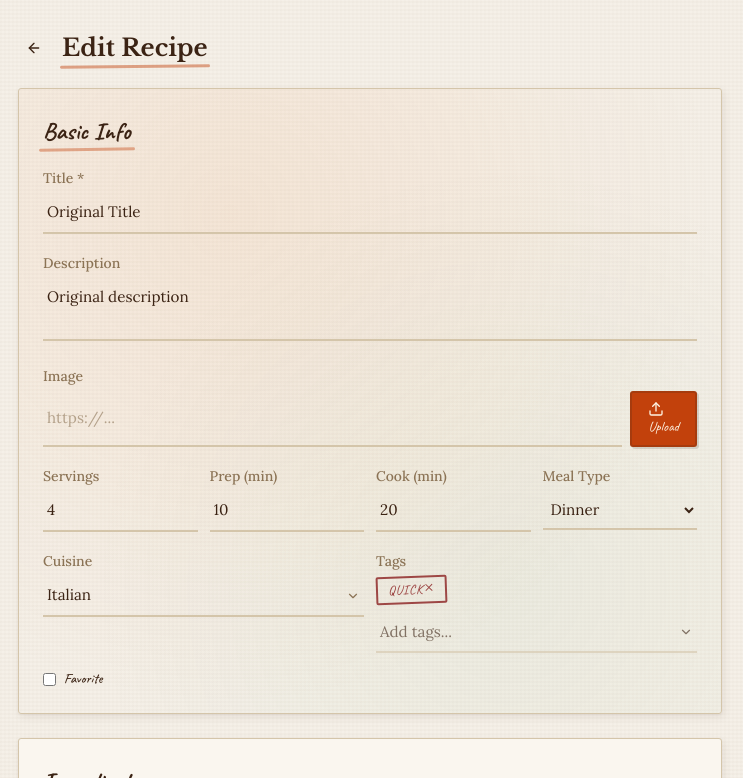
Test: Recipe Edit › E5: shows inline validation errors for missing required fields on submit
Note: Clear required title field then type something and clear to trigger save attempt
Step 1. Replace the text in the field showing "Original Title" with "x" → (370, 213), box top-left (43, 193), bottom-right (697, 234)
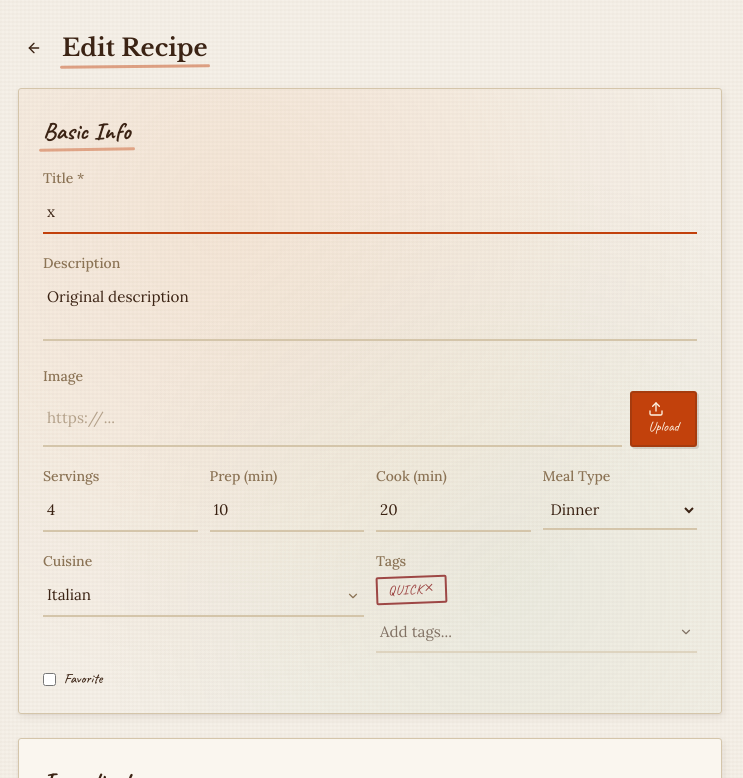
Note: Force a save attempt by typing one char, then the button enables
Step 2. Replace the text in the field showing "Original Title" with "y" → (370, 213), box top-left (43, 193), bottom-right (697, 234)
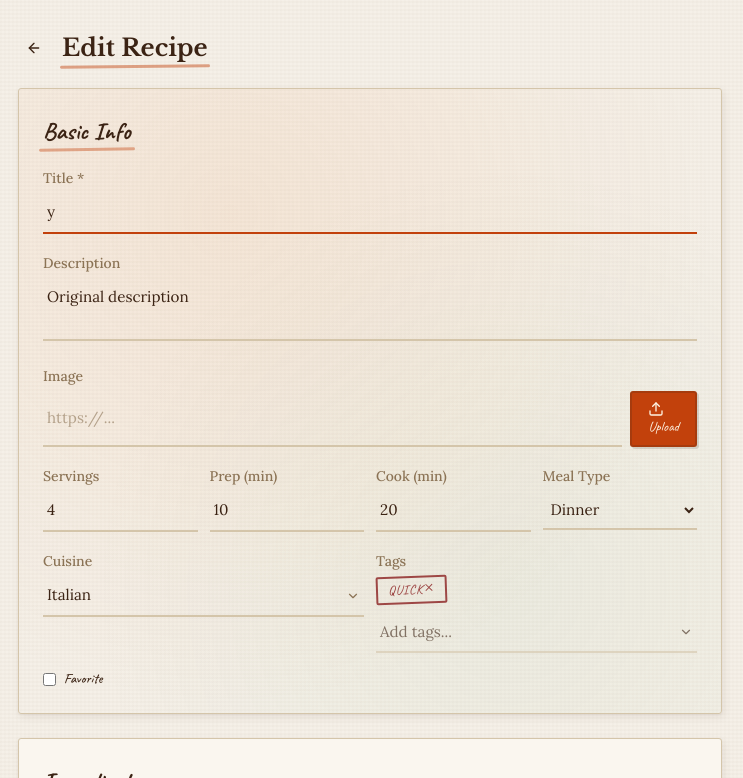
Step 3. Clear the field showing "Original Title" → (370, 213), box top-left (43, 193), bottom-right (697, 234)
(page scrolled)
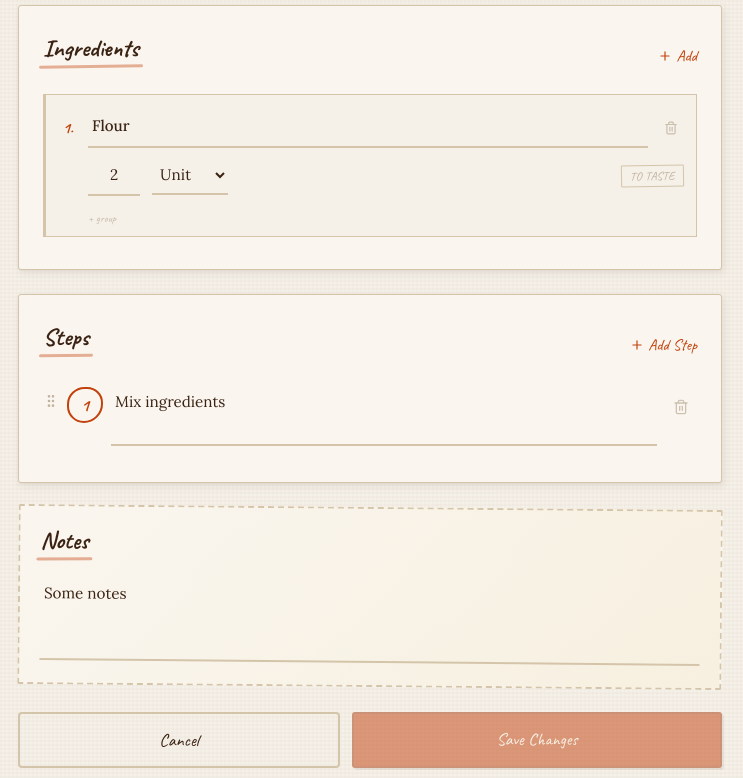
Now the button "Save Changes" is disabled, box top-left (352, 712), bottom-right (722, 768)
